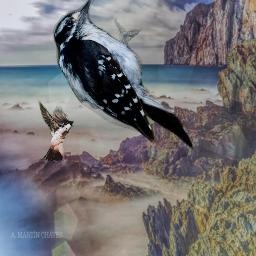Swallow: (37, 99, 74, 161)
Woodpecker: (51, 0, 196, 149)
